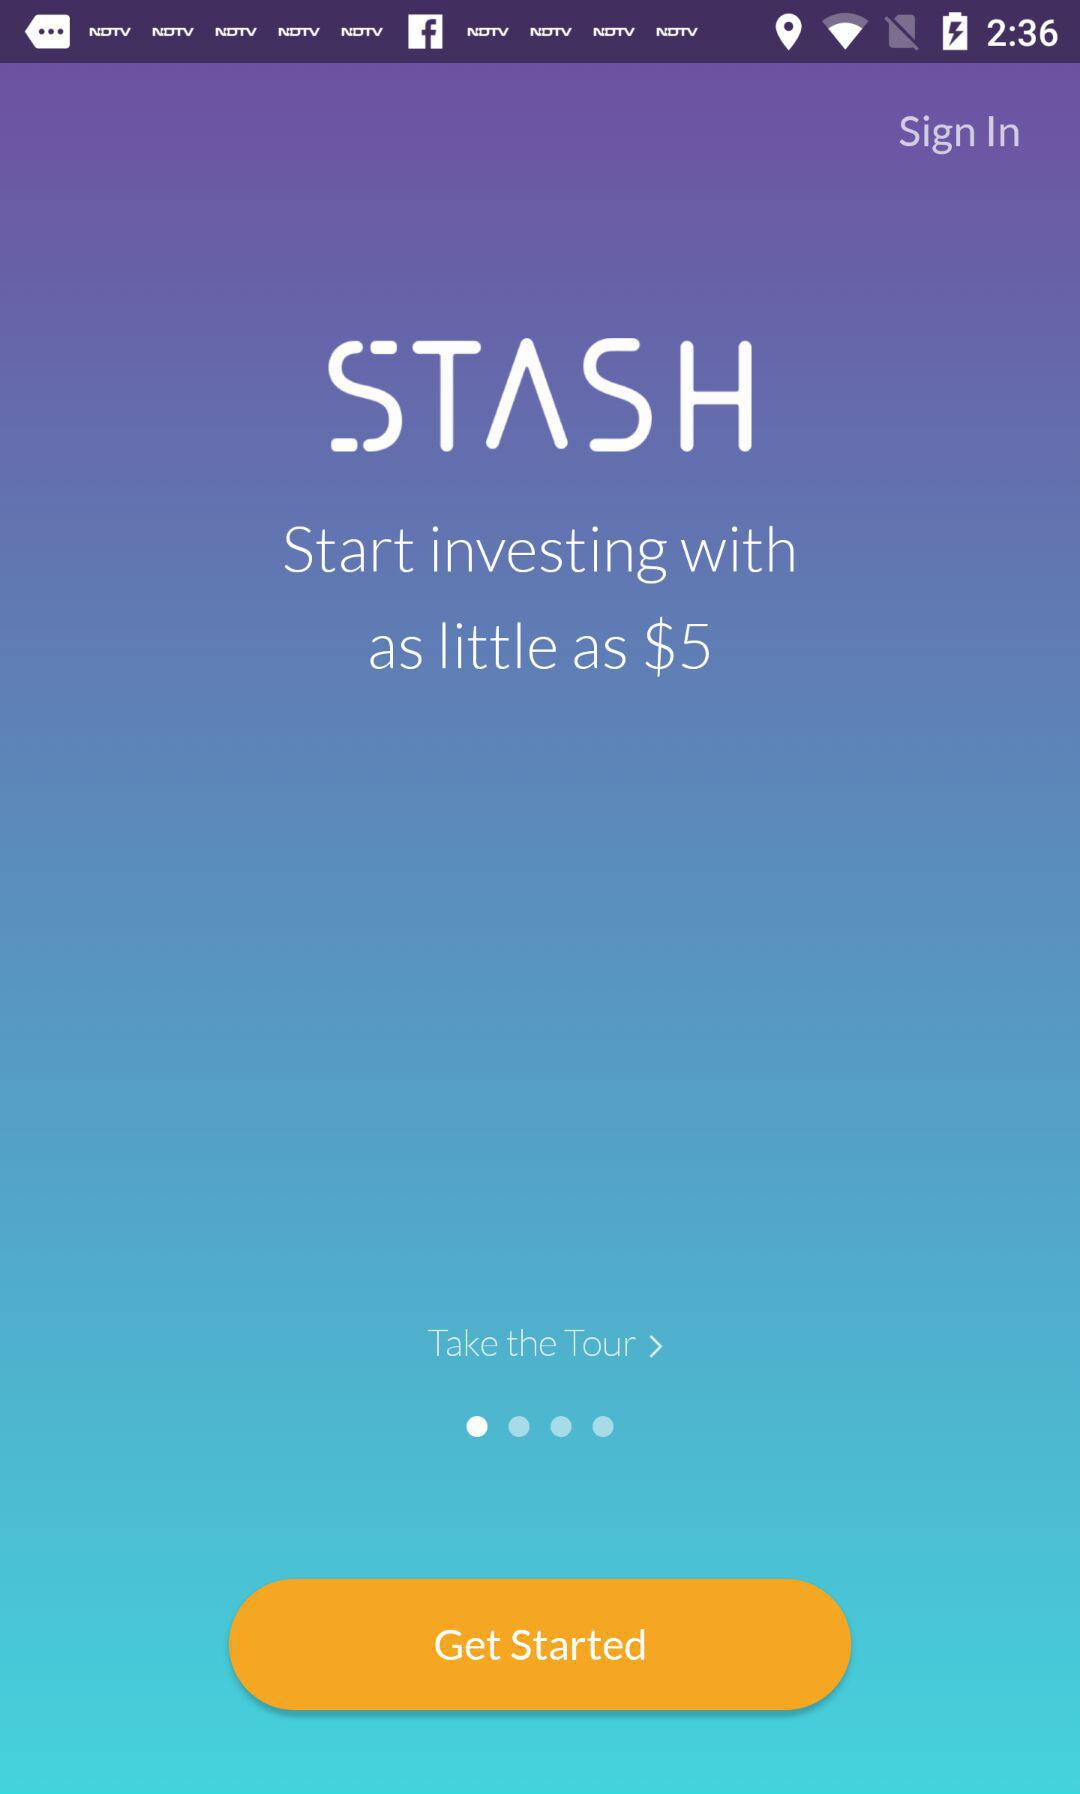Image: (327, 337, 755, 455)
PageIndicator: (465, 1413, 616, 1440)
Text: (282, 524, 796, 680), (428, 1328, 666, 1361), (899, 115, 1021, 158)
TextButton: (228, 1577, 853, 1712)
UpperTaskBar: (1, 1, 1080, 64)
